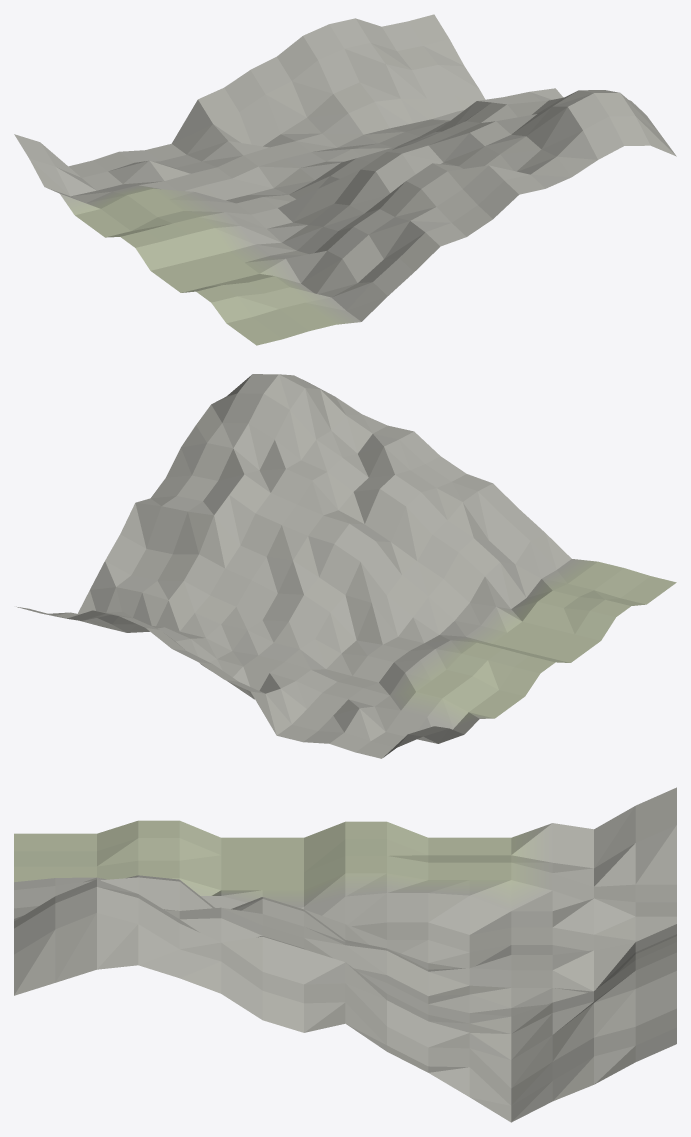
The picture shows the model from 3 angles, top to bottom: view 1: azimuth 30°, elevation 25°; view 2: azimuth 150°, elevation 25°; view 3: azimuth 270°, elevation 25°; orthographic projection. The views are drawn at different scales.
Size of the model in its own units: 32 by 11.26 by 32.
